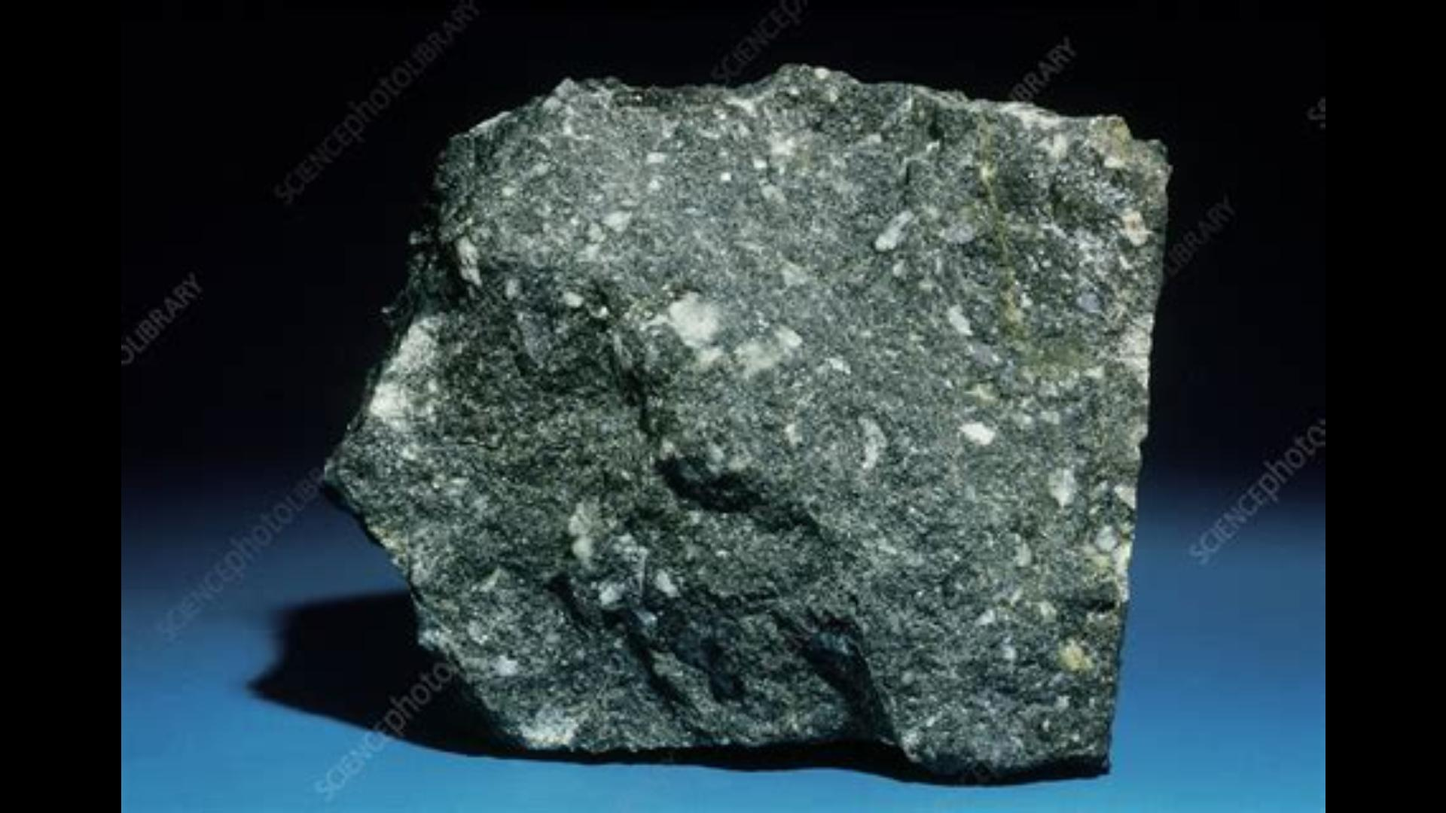rock: (326, 66, 1163, 775)
